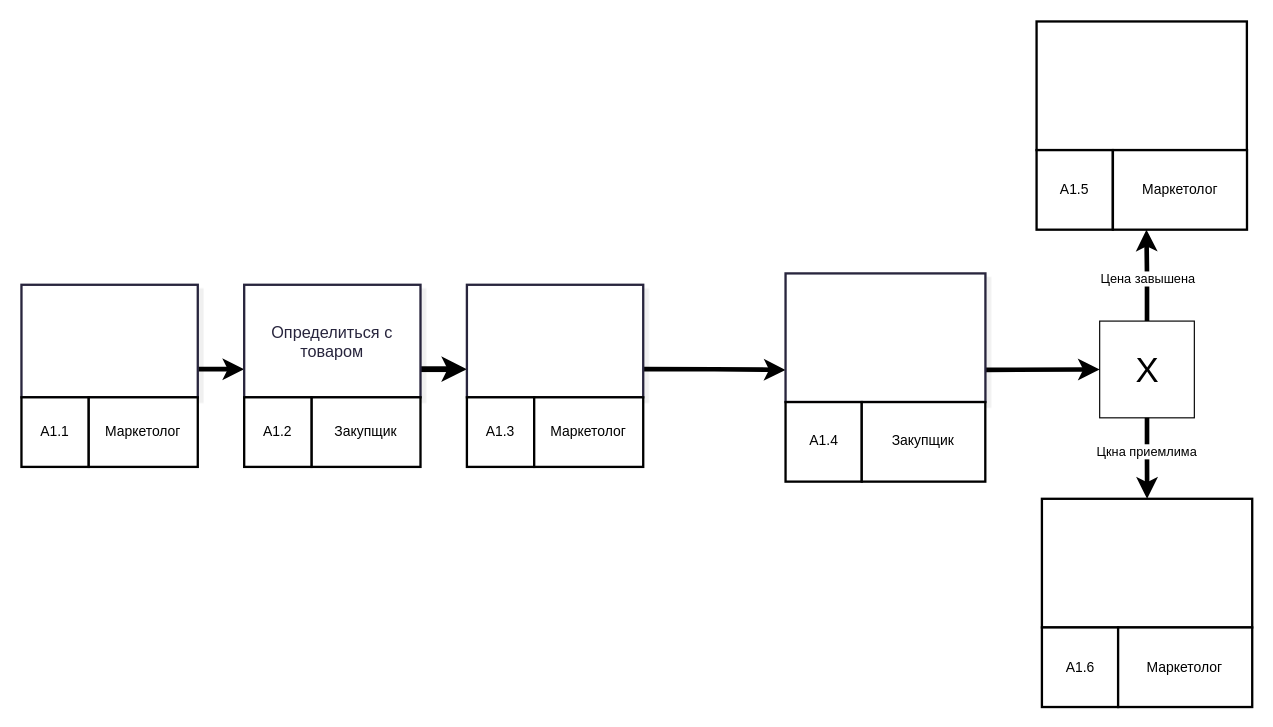
This 1273x727 diagram has some shape labels left out. Each missing label, with the centre of its shape:
"Найти страну поставщика с низким процентом пошлин" belongs at (x=556, y=343).
"Настроить логистику" belongs at (x=1146, y=562).
"Определится с поставщеком" belongs at (x=887, y=339).
"Определить рыночный спрос" belongs at (x=111, y=343).
"Повторно найти закупщика" belongs at (x=1141, y=85).
